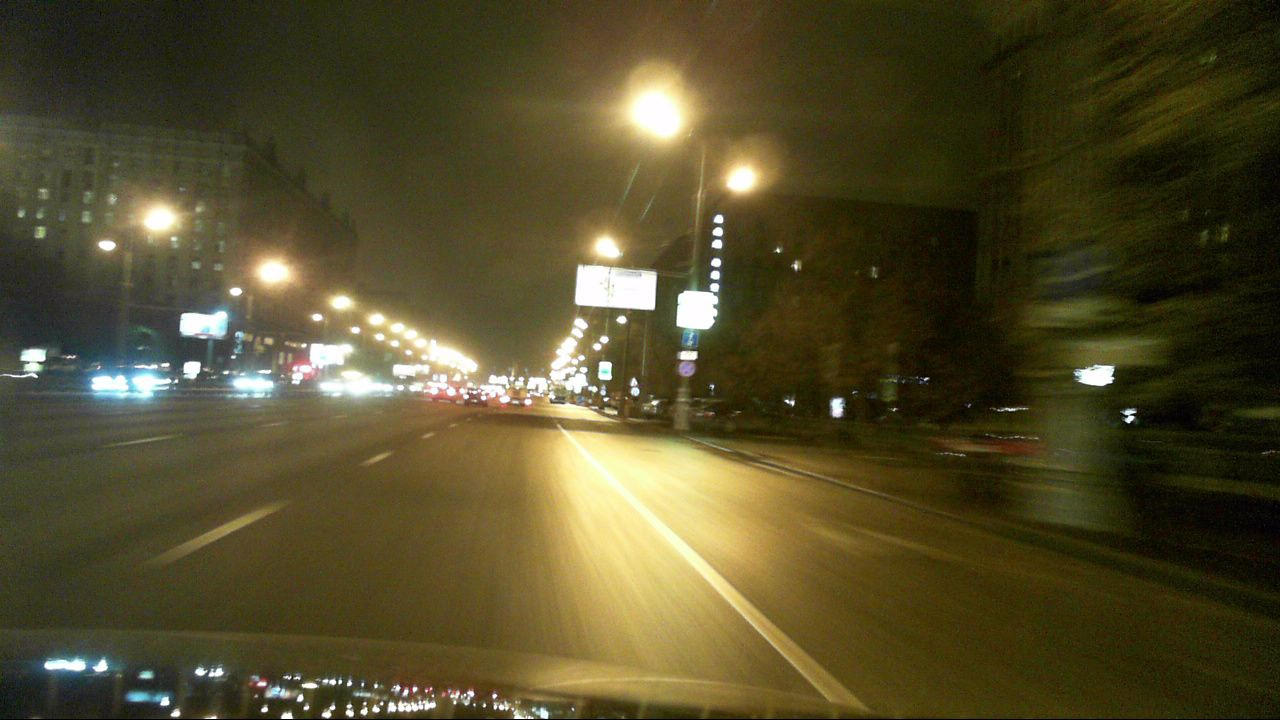No Parking: (678, 361, 695, 377)
